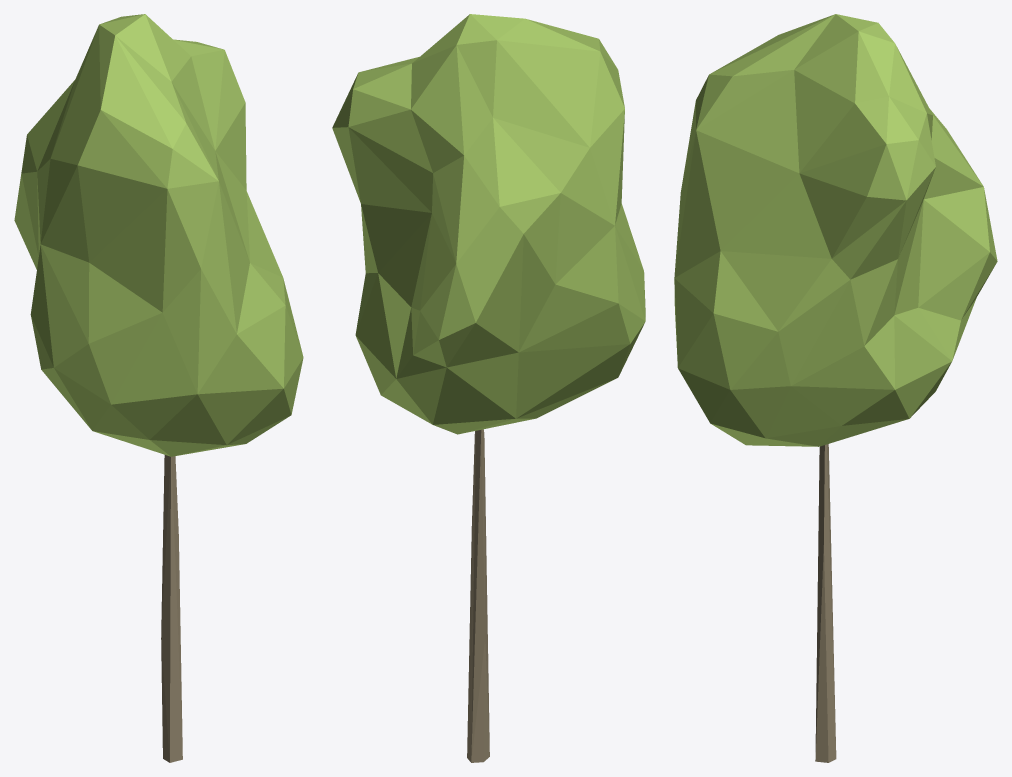
Rendered from TreePink_1 1.fbx.
3 renders of one model, left to right at view 1: azimuth 30°, elevation 25°; view 2: azimuth 150°, elevation 25°; view 3: azimuth 270°, elevation 25°, orthographic. The views are drawn at different scales.
Visible parts, largest first — view 1: Tree3_2; view 2: Tree3_2; view 3: Tree3_2.
Boxes of the visible parts, box(x1,y1,x2,y2) form: Tree3_2: box(14, 14, 303, 762); Tree3_2: box(332, 14, 645, 762); Tree3_2: box(674, 14, 997, 762).
Size of the model in its own units: 2.16 by 6.35 by 2.57.
